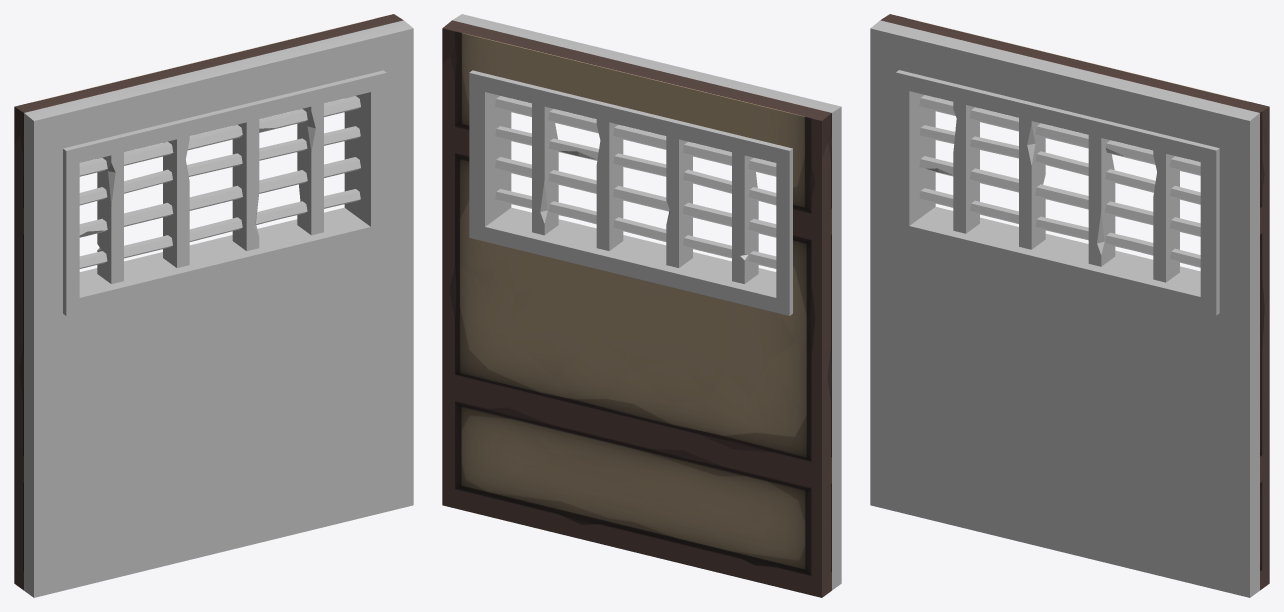
The model's file is SM_Bld_Wall_Window_07.fbx.
3 views of the same model, side by side, from view 1: azimuth 30°, elevation 25°; view 2: azimuth 150°, elevation 25°; view 3: azimuth 330°, elevation 25° (orthographic).
Parts seen in each view (by area): view 1: SM_Bld_Wall_Window_07; view 2: SM_Bld_Wall_Window_07; view 3: SM_Bld_Wall_Window_07.
Boxes of the visible parts, x1=… form: SM_Bld_Wall_Window_07: x1=14, y1=14, x2=413, y2=597; SM_Bld_Wall_Window_07: x1=442, y1=14, x2=841, y2=597; SM_Bld_Wall_Window_07: x1=870, y1=14, x2=1269, y2=597.
Bounding box in the file's own units: 250 × 301 × 30.05.
